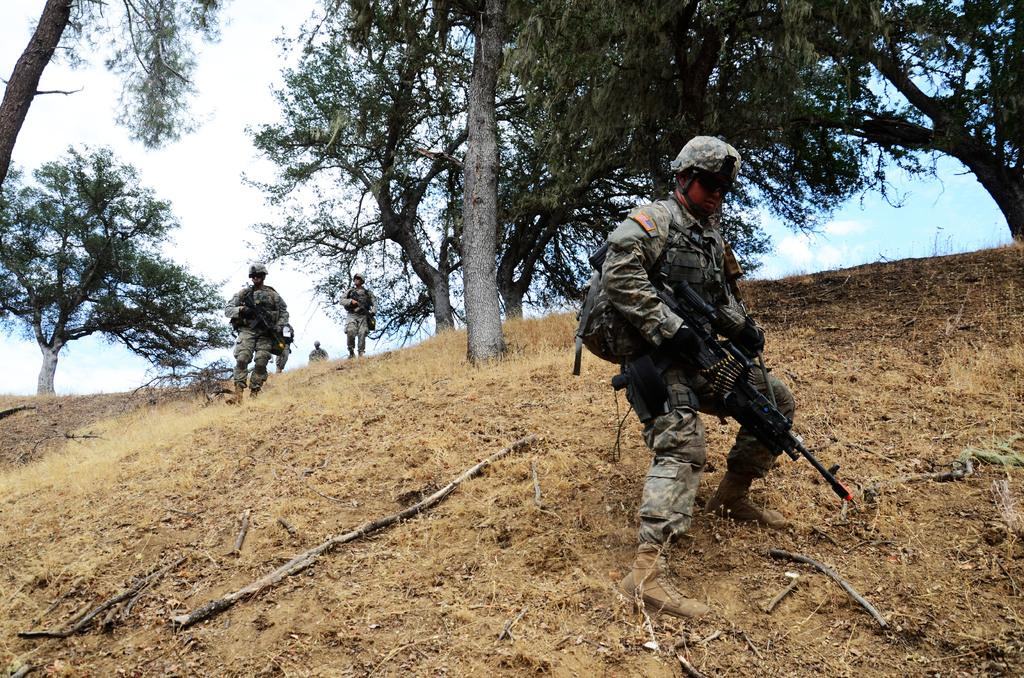Rifle: (659, 281, 856, 504)
